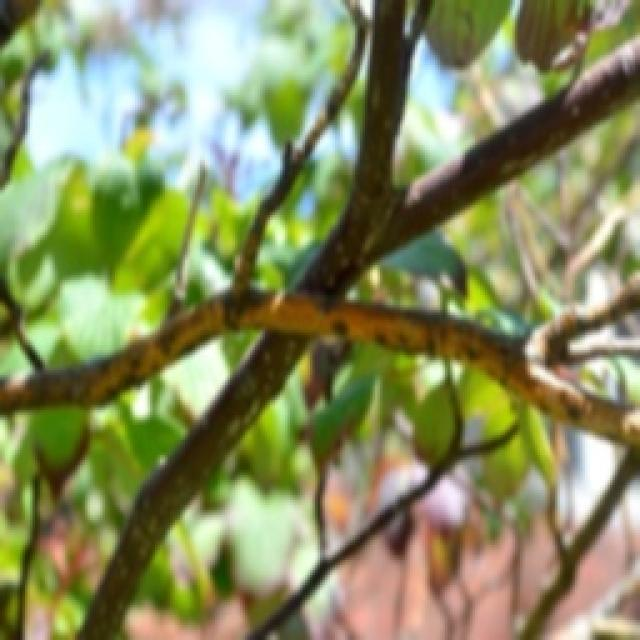Golden_canker: (22, 74, 640, 589)
